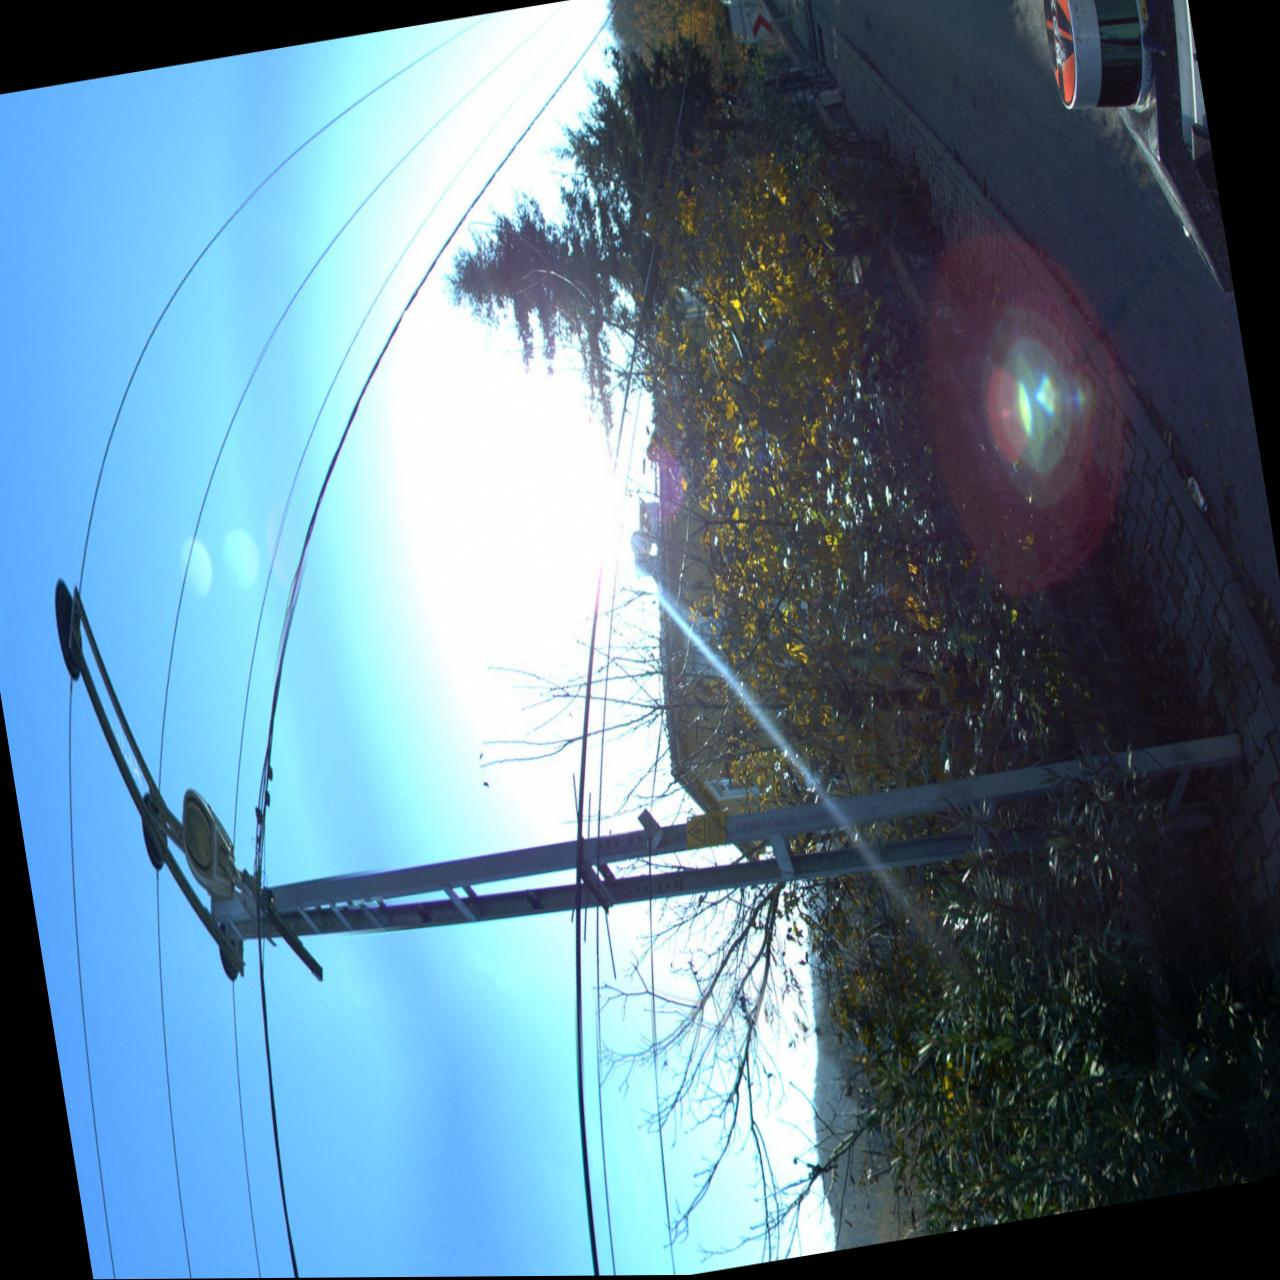Utility Pole Information Plate: (687, 810, 726, 850)
